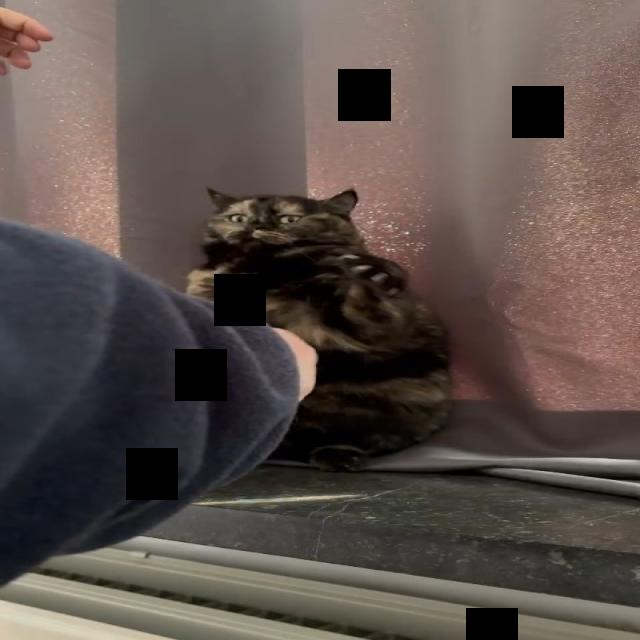authorized: (184, 185, 453, 472)
